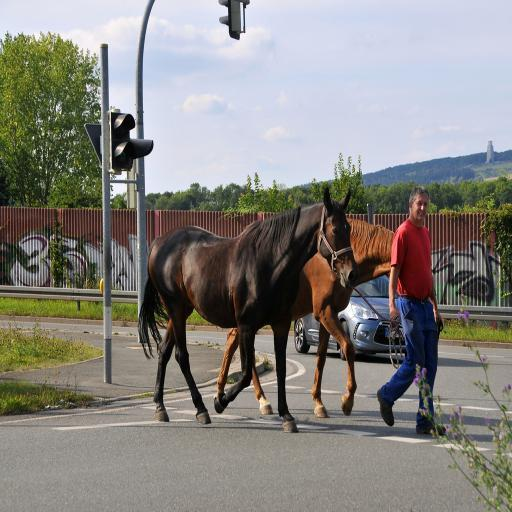horse: (134, 184, 362, 432), (215, 216, 396, 421)
